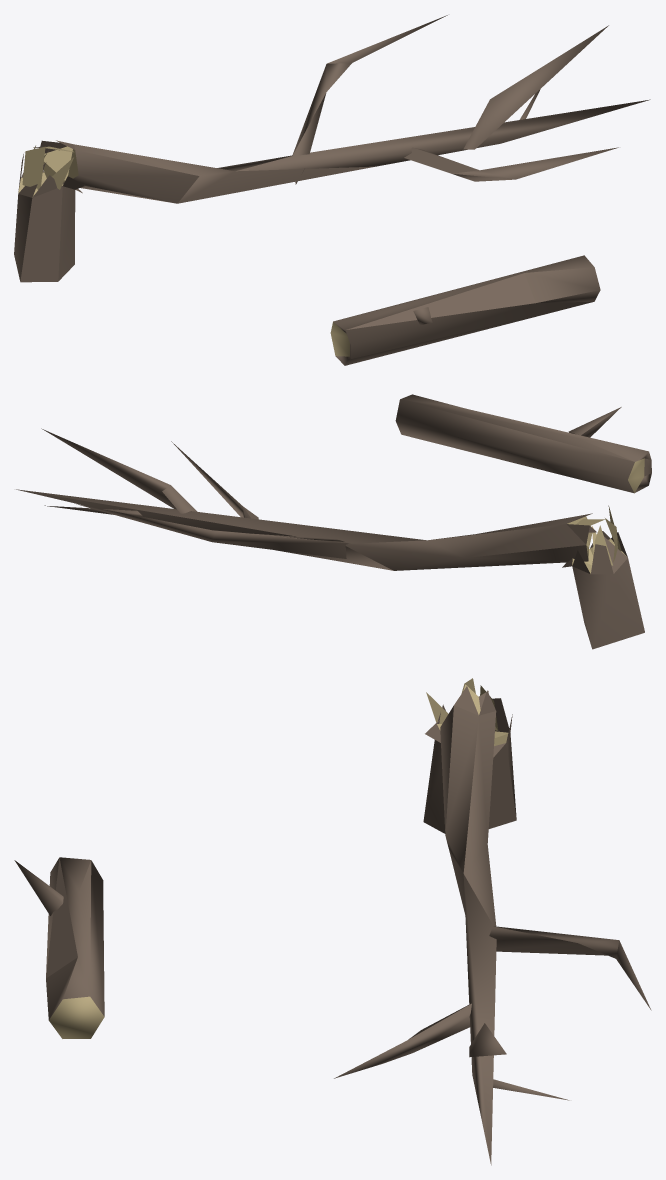
The model's file is FallenTree.fbx.
The picture shows the model from 3 angles, top to bottom: view 1: azimuth 30°, elevation 25°; view 2: azimuth 150°, elevation 25°; view 3: azimuth 270°, elevation 25°; orthographic projection. The views are drawn at different scales.
Visible parts, largest first — view 1: FallenTree_1_2_2, FallenTree_1_1_LOD0, FallenTree_1_2_LOD0; view 2: FallenTree_1_2_2, FallenTree_1_1_LOD0, FallenTree_1_2_LOD0; view 3: FallenTree_1_2_2, FallenTree_1_1_LOD0, FallenTree_1_2_LOD0.
Part boxes in pixels (x1=…): FallenTree_1_2_2: x1=33, y1=15, x2=650, y2=203; FallenTree_1_1_LOD0: x1=330, y1=255, x2=600, y2=365; FallenTree_1_2_LOD0: x1=14, y1=145, x2=84, y2=282; FallenTree_1_2_2: x1=16, y1=428, x2=604, y2=570; FallenTree_1_1_LOD0: x1=395, y1=394, x2=651, y2=493; FallenTree_1_2_LOD0: x1=562, y1=505, x2=644, y2=649; FallenTree_1_2_2: x1=334, y1=684, x2=651, y2=1165; FallenTree_1_1_LOD0: x1=14, y1=857, x2=104, y2=1038; FallenTree_1_2_LOD0: x1=423, y1=678, x2=516, y2=833.
Size of what is drawn, in the model's own units: 853 by 158 by 620.
